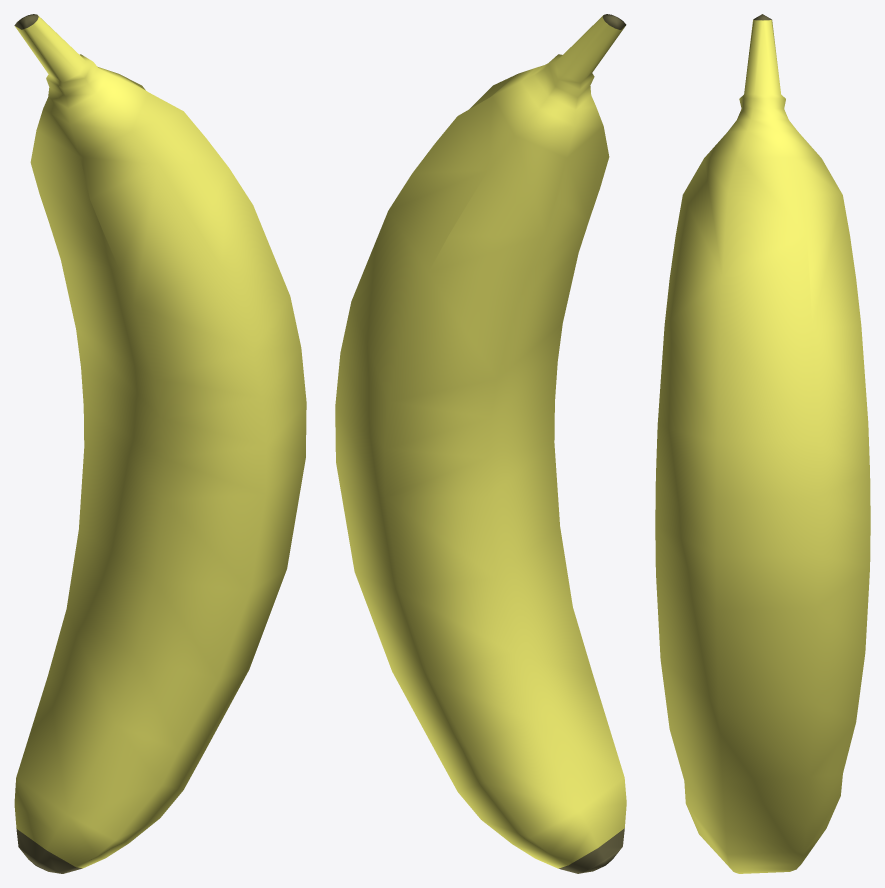
File: banana_FINAL.fbx
3 renders of one model, left to right at view 1: azimuth 30°, elevation 25°; view 2: azimuth 150°, elevation 25°; view 3: azimuth 270°, elevation 25°, orthographic. The views are drawn at different scales.
Visible parts, largest first — view 1: pSphere1; view 2: pSphere1; view 3: pSphere1.
Boxes of the visible parts, x1=… form: pSphere1: x1=14, y1=14, x2=306, y2=873; pSphere1: x1=335, y1=14, x2=626, y2=873; pSphere1: x1=655, y1=14, x2=870, y2=873.
Bounding box in the file's own units: 2.03 × 6.29 × 1.47.
